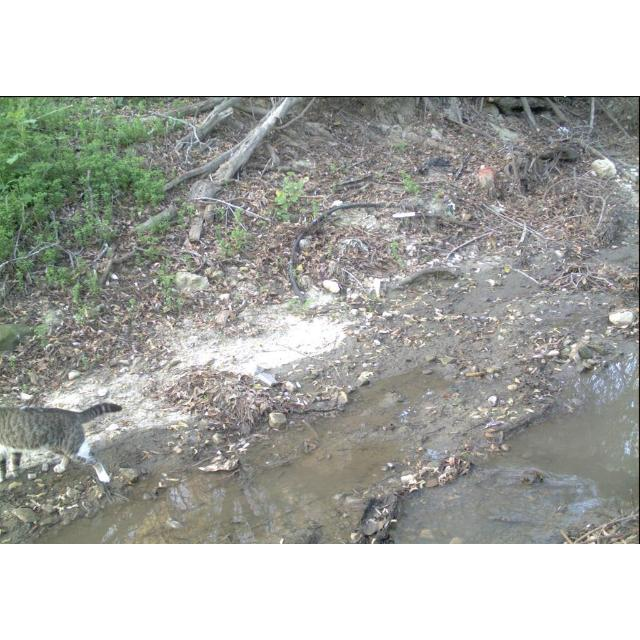animals: (0, 402, 122, 482)
